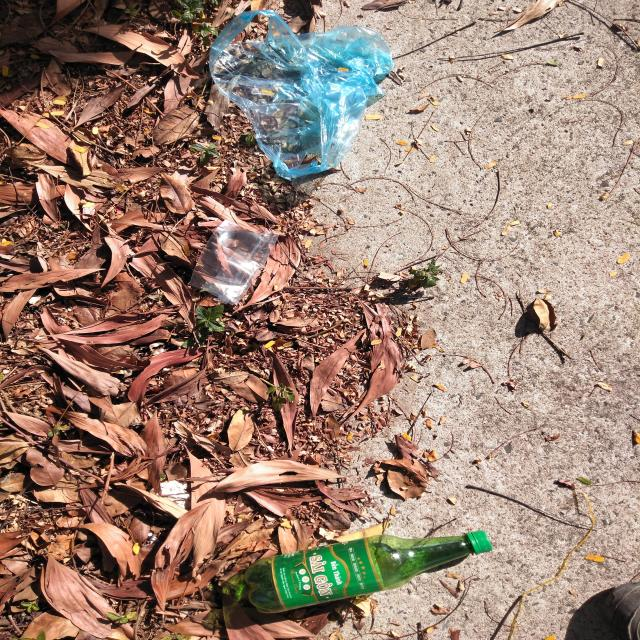litter: (207, 9, 396, 179), (237, 531, 492, 611), (187, 211, 277, 305)
